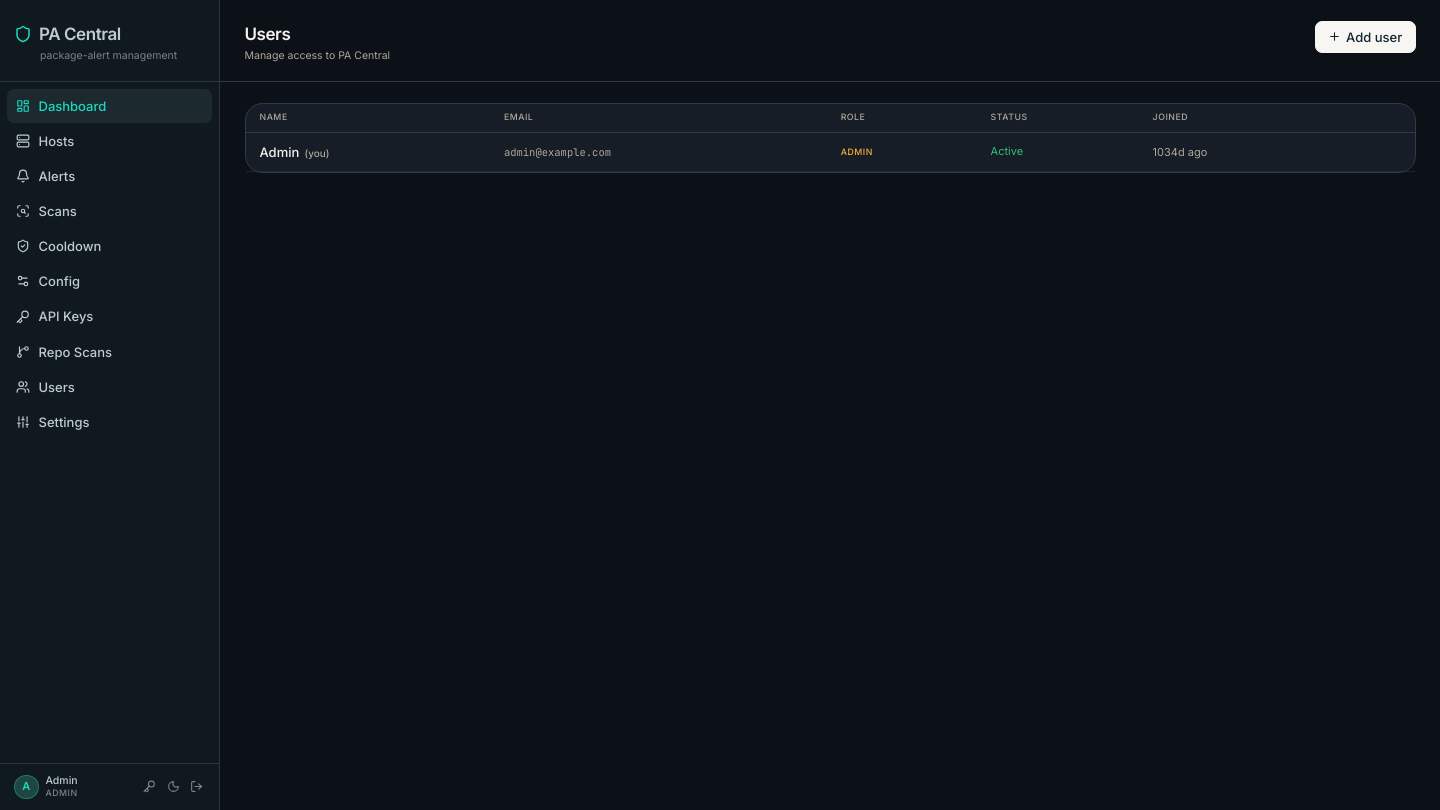
Add user — self-service enabled › warns rather than claiming success when preparation itself failed
Click the button "Add user": x=1365, y=37 x1=1315 y1=21 x2=1416 y2=52
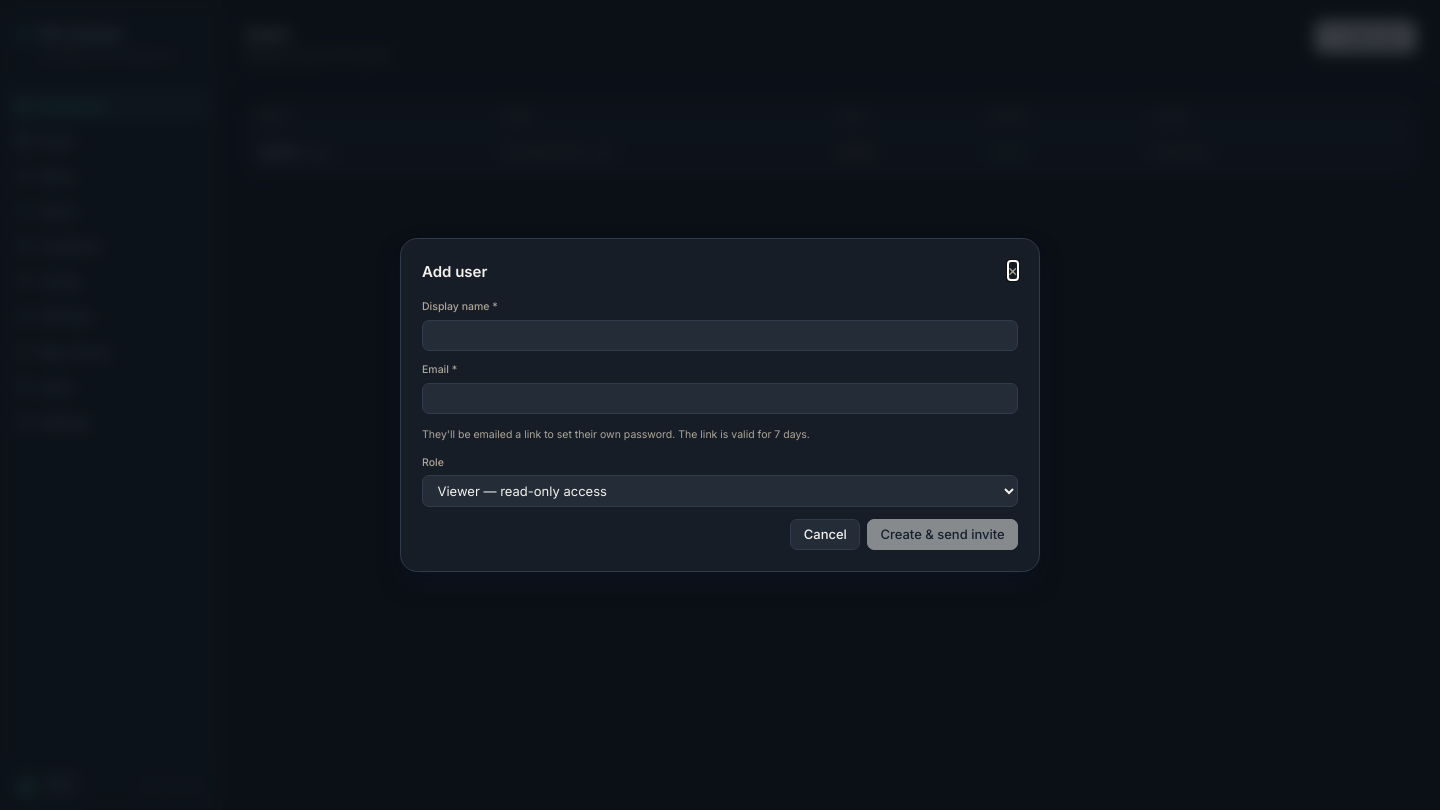
expect the text "link to set their own password" is shown: met, box x1=422 y1=428 x2=810 y2=442
In the field labelled "Display name *": x=720, y=335 x1=422 y1=320 x2=1018 y2=351, type "New Comer"
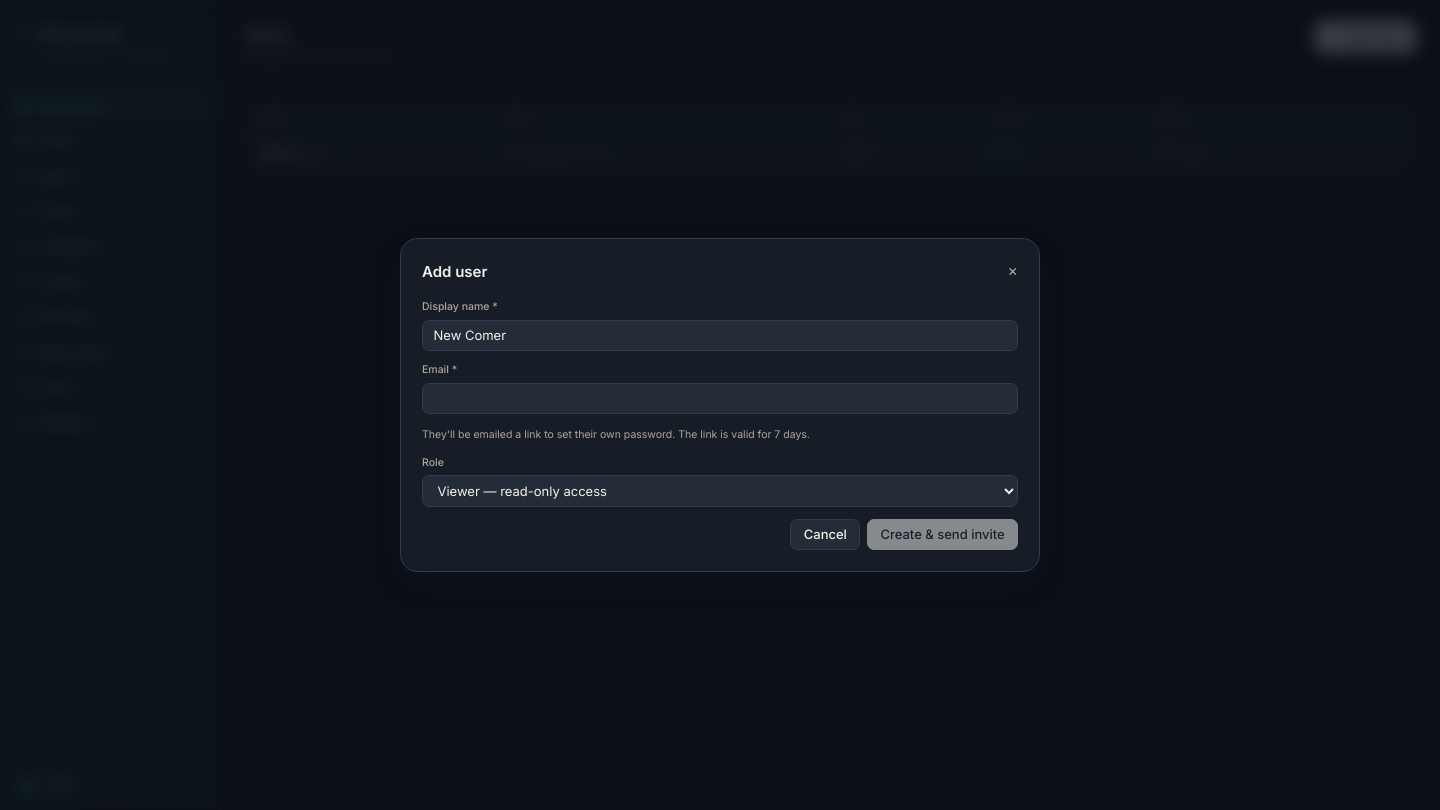
In the field labelled "Email *": x=720, y=398 x1=422 y1=383 x2=1018 y2=414, type "new@example.com"
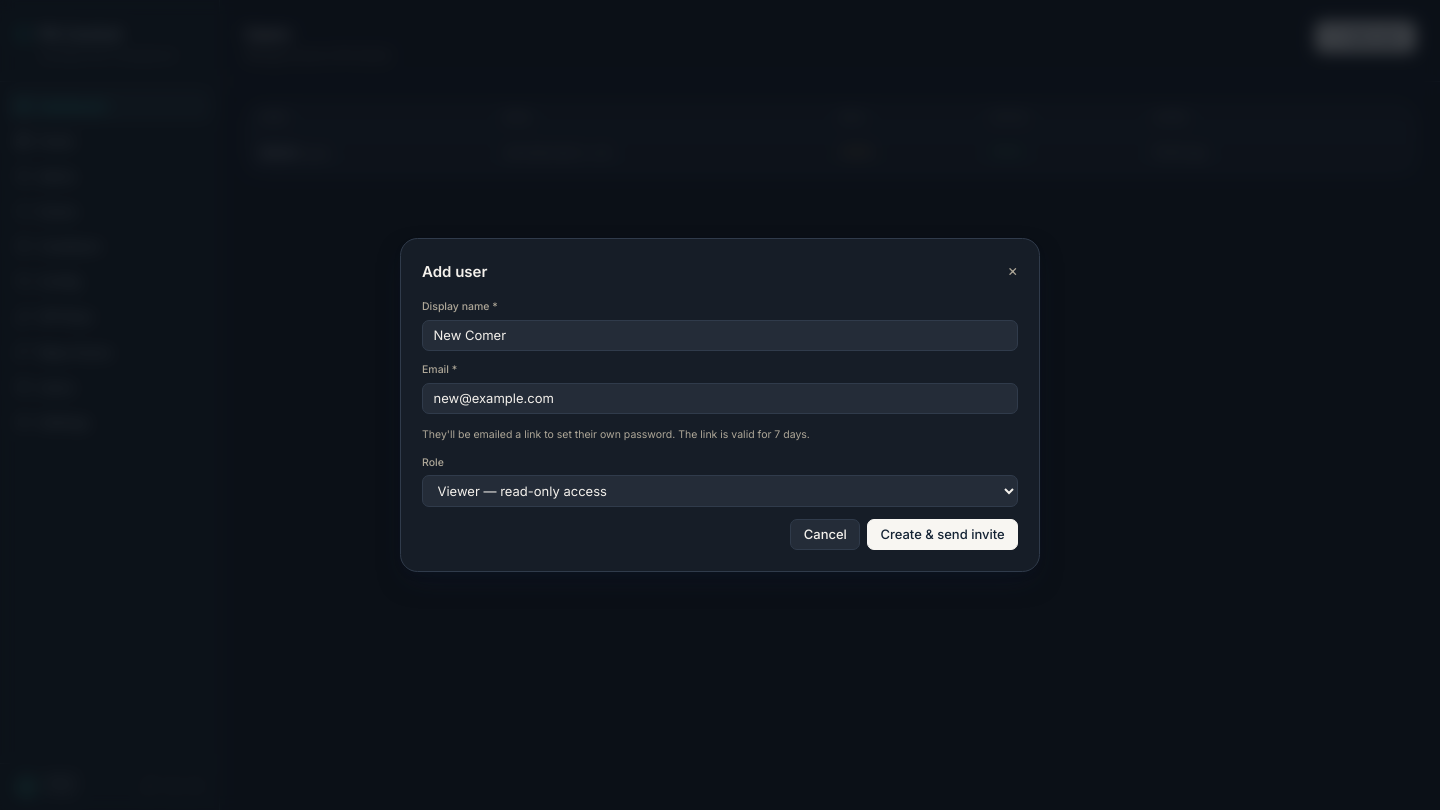
Click the button "Create & send invite": x=943, y=535 x1=867 y1=519 x2=1018 y2=550
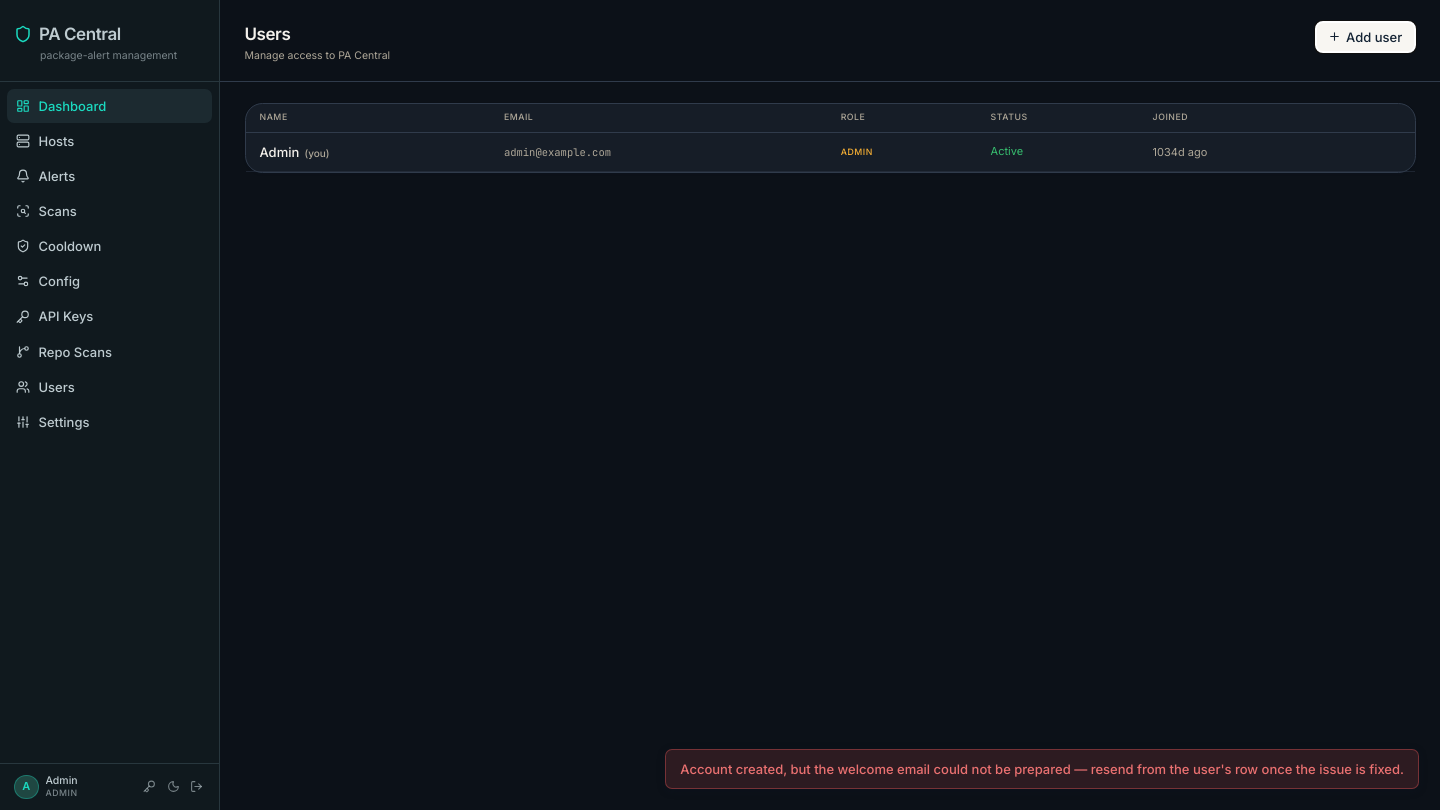
expect the text "could not be prepared" is shown: met, box x1=680 y1=761 x2=1404 y2=777
